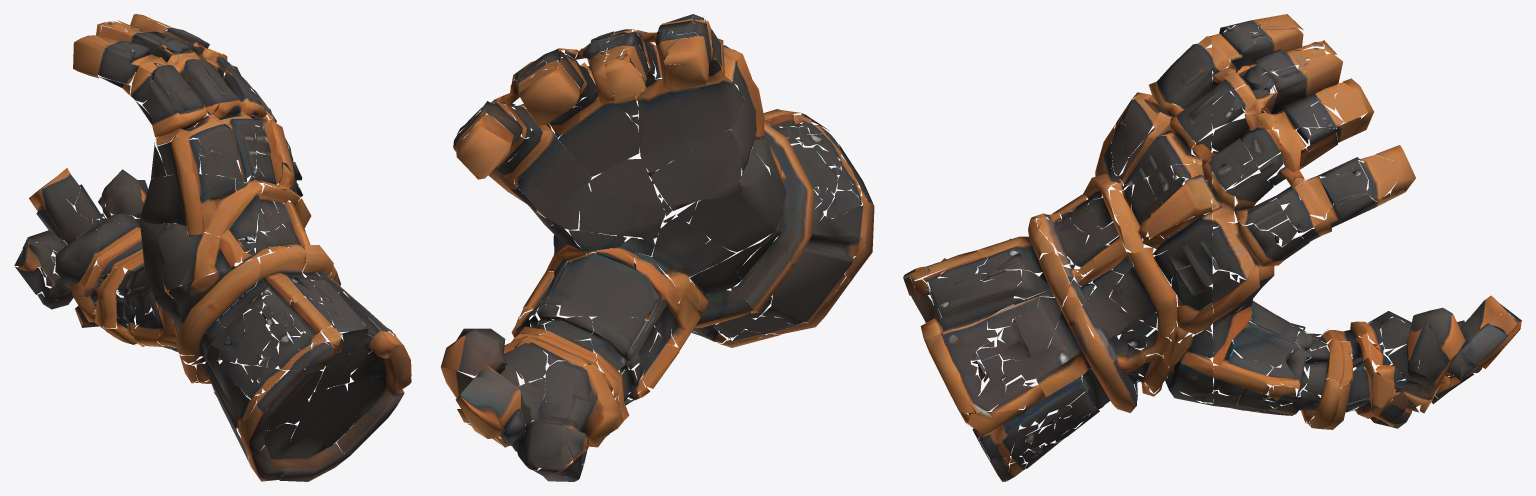
3 renders of one model, left to right at view 1: azimuth 30°, elevation 25°; view 2: azimuth 150°, elevation 25°; view 3: azimuth 270°, elevation 25°, orthographic. The views are drawn at different scales.
Visible parts, largest first — view 1: W003; view 2: W003; view 3: W003.
Part boxes in pixels (box(x1,y1,x2,y2)): W003: box(14, 14, 411, 481); W003: box(440, 14, 874, 481); W003: box(903, 14, 1521, 481).
Bounding box in the file's own units: 0.1431 × 0.2552 × 0.3492.
Materials: 1 (1 with a texture image).
